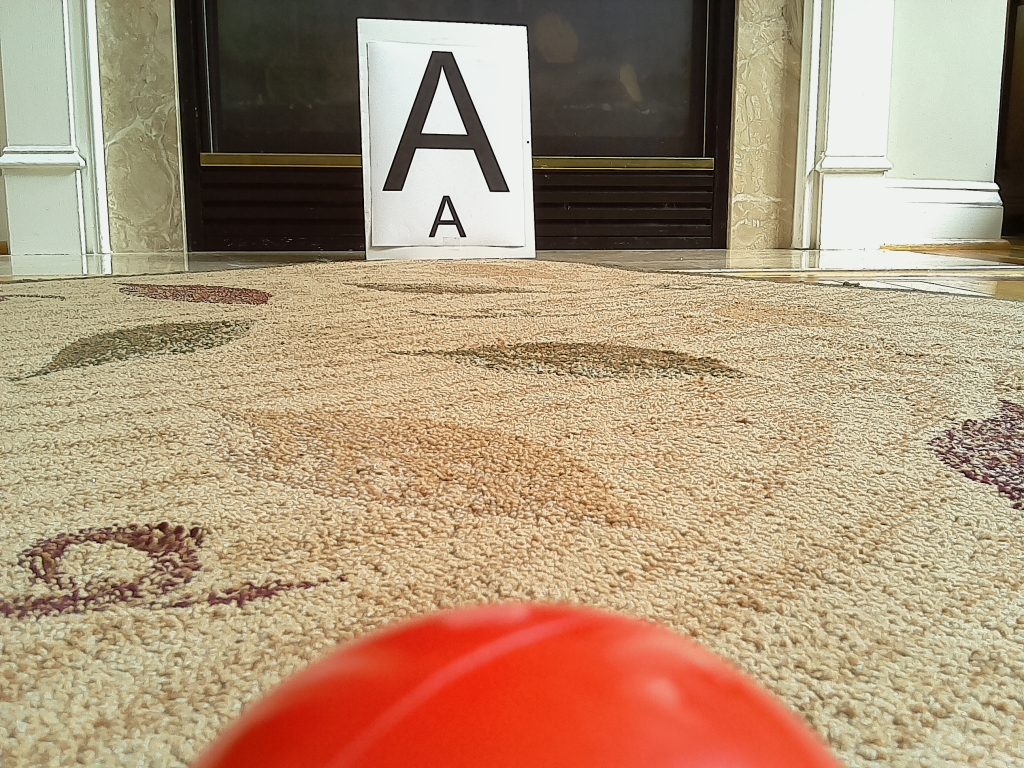letter: (384, 51, 511, 192)
